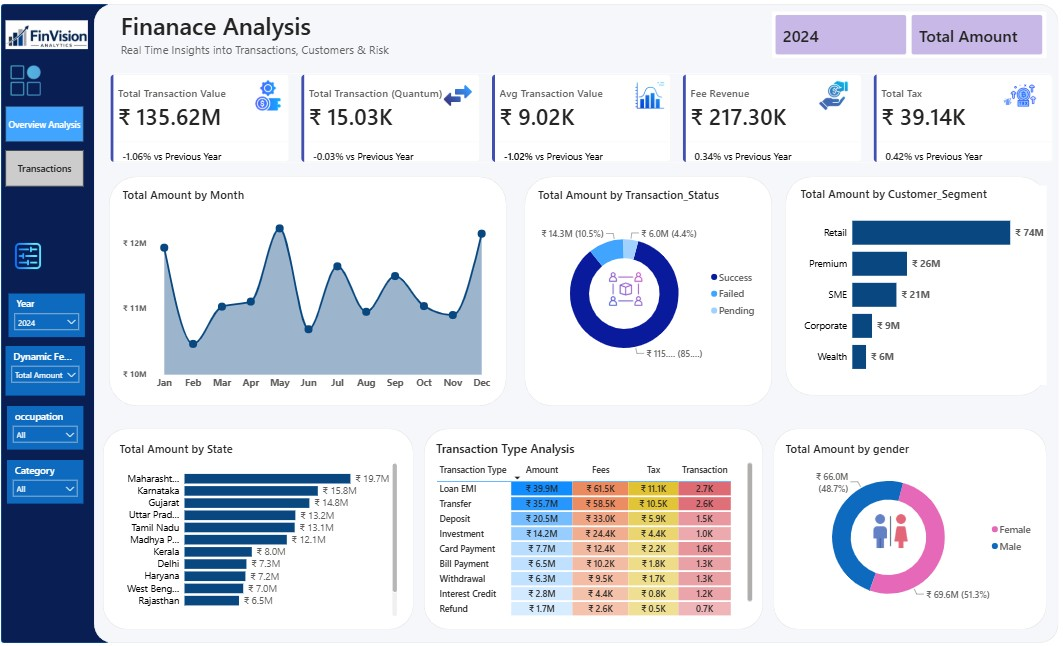

Layout of this report page (visuals, bound fields, positions):
{"tool":"powerbi","page":{"name":"Overview Analysis","canvas":[1800,1100],"ordinal":0},"visuals":[{"type":"shape","box":[10,15,180,1065],"z":0},{"type":"shape","box":[165,15,1607.5,1065],"z":1000},{"type":"image","box":[17.5,27.5,137.5,77.5],"z":2000},{"type":"cardVisual","fields":{"Data":["finance_transactions.Dashboard Title","finance_transactions.Dashboard Title","finance_transactions.Dashboard Title"]},"box":[192.5,0,505,125],"z":3000},{"type":"cardVisual","fields":{"Data":["finance_transactions.Total Amount","finance_transactions.Total Transaction","finance_transactions.Avg Transaction Value","finance_transactions.Total Fees","finance_transactions.Total Tax"]},"box":[185,125,1587.5,160],"z":4000},{"type":"slicer","fields":{"Values":["Calender Table.Year"]},"box":[22.5,497.5,127.5,72.5],"z":5000},{"type":"image","box":[430,142.5,50,50],"z":6000},{"type":"image","box":[745,142.5,52.5,50],"z":7000},{"type":"image","box":[1372.5,142.5,50,50],"z":8000},{"type":"image","box":[1065,142.5,52.5,50],"z":9000},{"type":"image","box":[1687.5,142.5,52.5,50],"z":10000},{"type":"slicer","fields":{"Values":["Dynamic Feilds.Dynamic Feilds"]},"box":[17.5,585,132.5,82.5],"z":11000},{"type":"shape","box":[190,302.5,662.5,382.5],"z":12000},{"type":"areaChart","title":"Total Amount by Month","fields":{"Y":["finance_transactions.Total Amount"],"Category":["Calender Table.Month"]},"box":[207.5,320,627.5,347.5],"z":13000},{"type":"cardVisual","fields":{"Data":["Dynamic Feilds.Selected Dynamic Year","Dynamic Feilds.Selected Dynamic Measure"]},"box":[1295,27.5,457.5,77.5],"z":14000},{"type":"shape","box":[882.5,302.5,412.5,382.5],"z":15000},{"type":"donutChart","fields":{"Y":["finance_transactions.Total Amount"],"Category":["finance_transactions.transaction_status"]},"box":[900,320,380,330],"z":16000},{"type":"shape","box":[1317.5,302.5,435,365],"z":17000},{"type":"barChart","fields":{"Y":["finance_transactions.Total Amount"],"Category":["customers.customer_segment"]},"box":[1337.5,317.5,415,332.5],"z":18000},{"type":"shape","box":[180,722.5,517.5,335],"z":19000},{"type":"barChart","fields":{"Y":["finance_transactions.Total Amount"],"Category":["customers.state"]},"box":[202.5,742.5,472.5,297.5],"z":20000},{"type":"shape","box":[715,722.5,565,335],"z":21000},{"type":"tableEx","title":"Transaction Type Analysis","fields":{"Values":["finance_transactions.transaction_type","finance_transactions.Total Amount","finance_transactions.Total Fees","finance_transactions.Total Tax","finance_transactions.Total Transaction"]},"box":[730,742.5,537.5,297.5],"z":22000},{"type":"shape","box":[1297.5,722.5,455,335],"z":23000},{"type":"donutChart","fields":{"Y":["finance_transactions.Total Amount"],"Category":["customers.gender"]},"box":[1312.5,742.5,427.5,297.5],"z":24000},{"type":"image","box":[1012.5,460,77.5,60],"z":25000},{"type":"image","box":[1460,860,65,67.5],"z":26000},{"type":"slicer","fields":{"Values":["customers.occupation"]},"box":[20,685,127.5,72.5],"z":27000},{"type":"slicer","fields":{"Values":["finance_transactions.merchant_category"]},"box":[20,775,127.5,72.5],"z":28000},{"type":"pageNavigator","box":[17.5,185,130,135],"z":29000},{"type":"image","box":[1680,152.5,15,50],"z":30000},{"type":"image","box":[20,117.5,62.5,50],"z":31000},{"type":"image","box":[20,410,70,50],"z":32000}]}

Visuals, with their boxes on the page's 1800x1100 design canvas (x1, y1, x2, y2). These are canvas units, not pixel positions in the 1063x646 screenshot, which may show the page scaled, cropped or inside an application window:
shape: x1=10 y1=15 x2=190 y2=1080
shape: x1=165 y1=15 x2=1772 y2=1080
image: x1=18 y1=28 x2=155 y2=105
cardVisual - finance_transactions.Dashboard Title x finance_transactions.Dashboard Title: x1=192 y1=0 x2=698 y2=125
cardVisual - finance_transactions.Total Amount x finance_transactions.Total Transaction: x1=185 y1=125 x2=1772 y2=285
slicer - Calender Table.Year: x1=22 y1=498 x2=150 y2=570
image: x1=430 y1=142 x2=480 y2=192
image: x1=745 y1=142 x2=798 y2=192
image: x1=1372 y1=142 x2=1422 y2=192
image: x1=1065 y1=142 x2=1118 y2=192
image: x1=1688 y1=142 x2=1740 y2=192
slicer - Dynamic Feilds.Dynamic Feilds: x1=18 y1=585 x2=150 y2=668
shape: x1=190 y1=302 x2=852 y2=685
"Total Amount by Month" areaChart: x1=208 y1=320 x2=835 y2=668
cardVisual - Dynamic Feilds.Selected Dynamic Year x Dynamic Feilds.Selected Dynamic Measure: x1=1295 y1=28 x2=1752 y2=105
shape: x1=882 y1=302 x2=1295 y2=685
donutChart - finance_transactions.Total Amount x finance_transactions.transaction_status: x1=900 y1=320 x2=1280 y2=650
shape: x1=1318 y1=302 x2=1752 y2=668
barChart - finance_transactions.Total Amount x customers.customer_segment: x1=1338 y1=318 x2=1752 y2=650
shape: x1=180 y1=722 x2=698 y2=1058
barChart - finance_transactions.Total Amount x customers.state: x1=202 y1=742 x2=675 y2=1040
shape: x1=715 y1=722 x2=1280 y2=1058
"Transaction Type Analysis" tableEx: x1=730 y1=742 x2=1268 y2=1040
shape: x1=1298 y1=722 x2=1752 y2=1058
donutChart - finance_transactions.Total Amount x customers.gender: x1=1312 y1=742 x2=1740 y2=1040
image: x1=1012 y1=460 x2=1090 y2=520
image: x1=1460 y1=860 x2=1525 y2=928
slicer - customers.occupation: x1=20 y1=685 x2=148 y2=758
slicer - finance_transactions.merchant_category: x1=20 y1=775 x2=148 y2=848
pageNavigator: x1=18 y1=185 x2=148 y2=320
image: x1=1680 y1=152 x2=1695 y2=202
image: x1=20 y1=118 x2=82 y2=168
image: x1=20 y1=410 x2=90 y2=460
